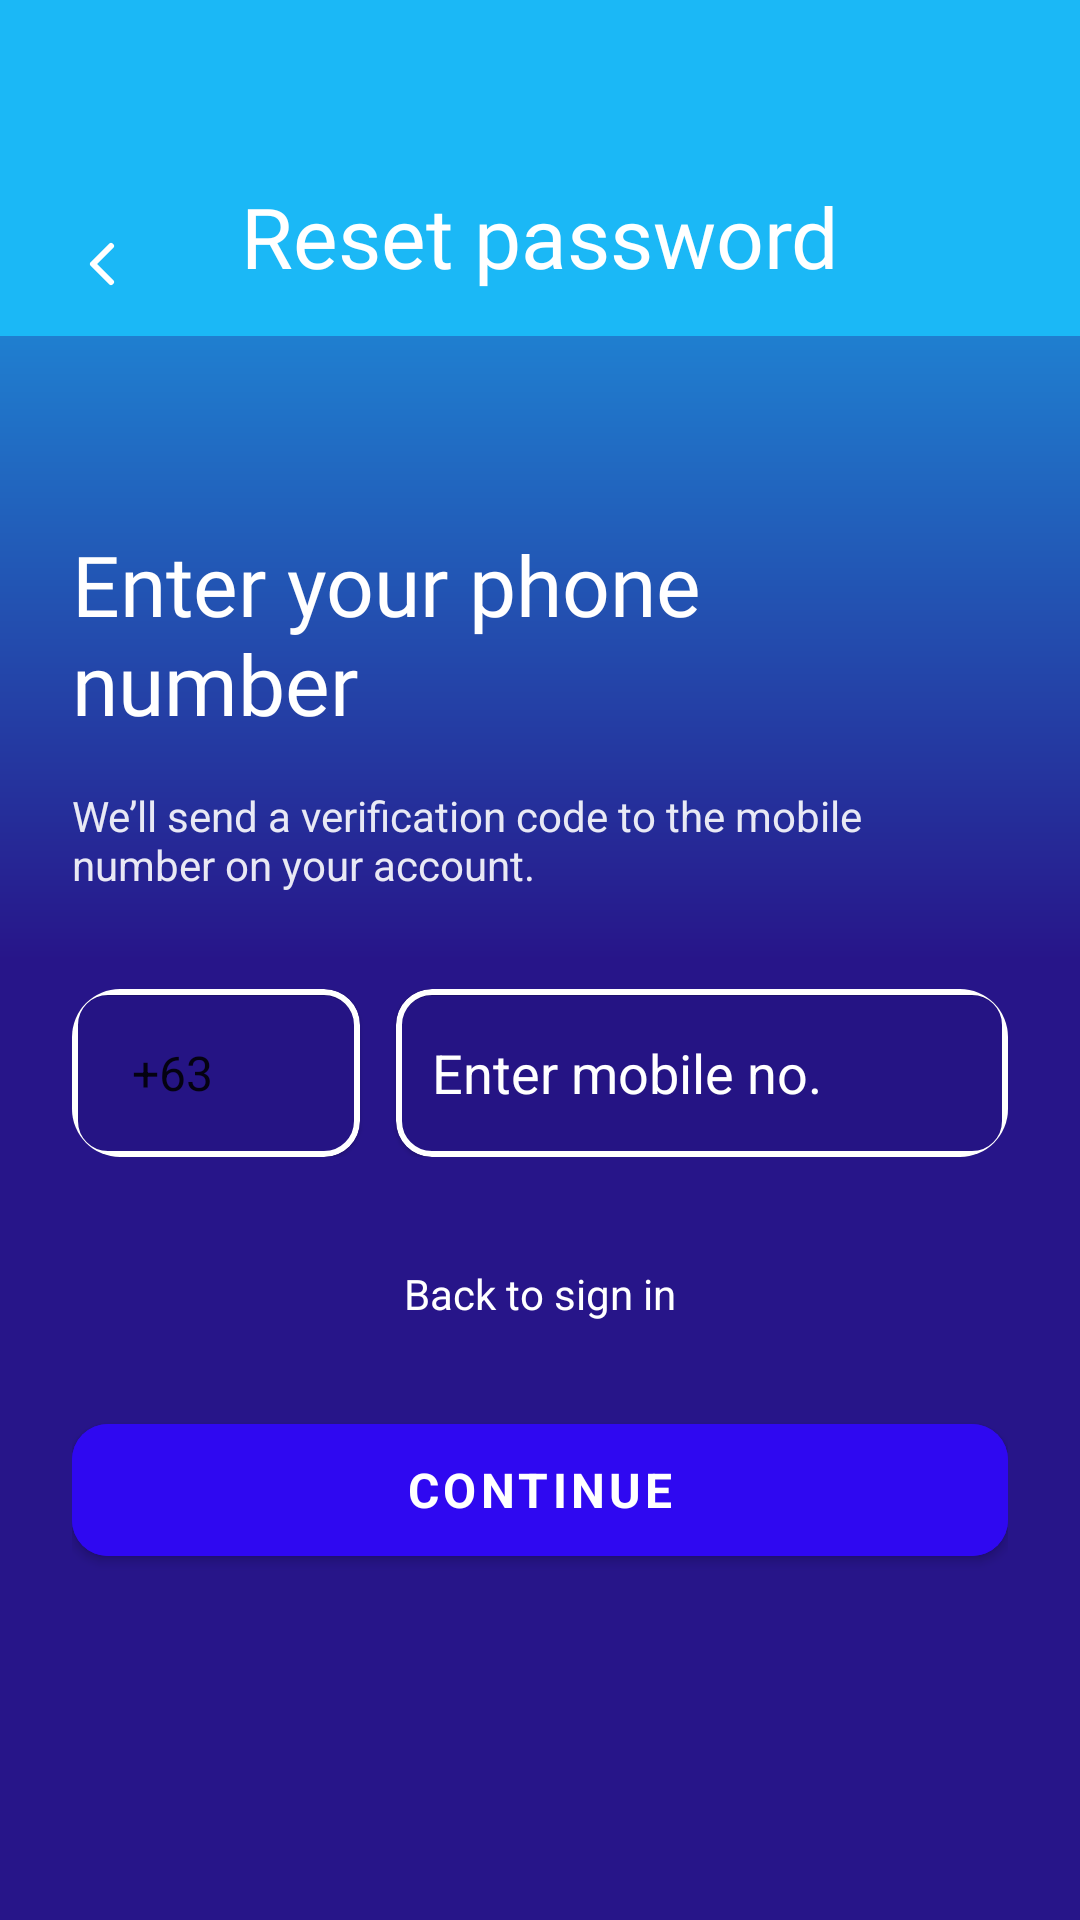

Icon bounding boxes for this 1080x1920 phone screenshot, format bbox=(x1, y1, x2, y2):
Back: bbox=(90, 243, 114, 285)
